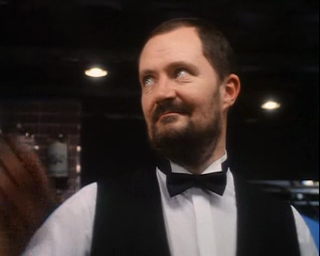cu: (1, 1, 320, 256)
face: (137, 41, 207, 153)
person: (19, 16, 320, 256)
